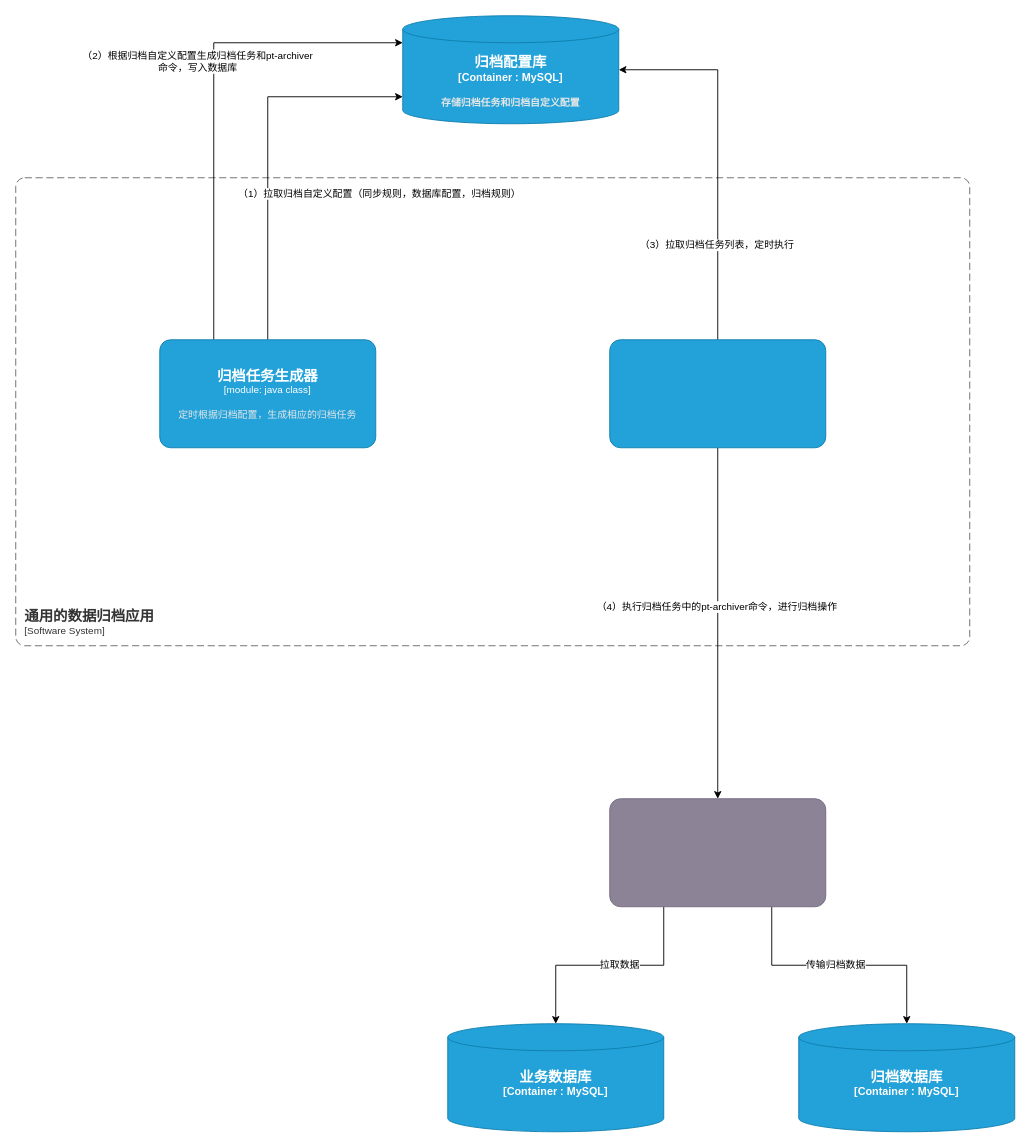
The diagram is 1031 pixels wide and 1148 high, and some of its shapes have lost their labels. The centre of each missing label's shape, as x and y in pixels:
"pt-archiver [shell] pt-archiver 是一个成熟的数据归档工具" belongs at (x=717, y=852).
"归档任务执行器 [module: java class] 定时执行归档任务，并且记录执行日志和执行状态" belongs at (x=717, y=393).
